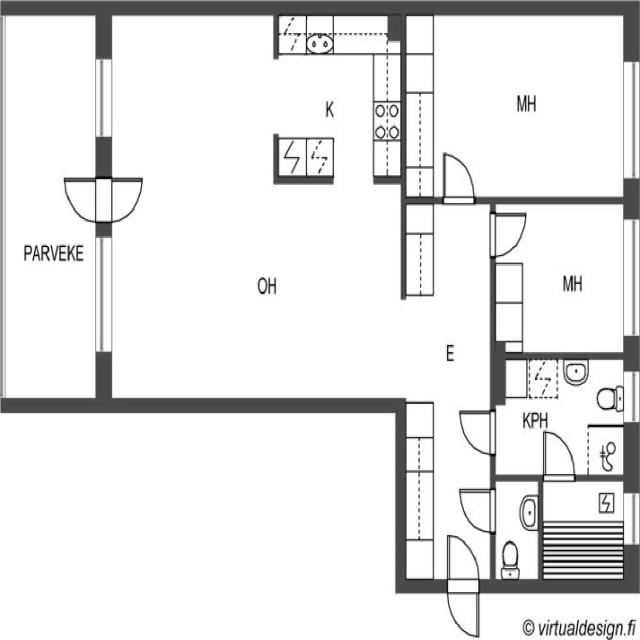door: (438, 528, 484, 640), (451, 398, 506, 462), (453, 479, 501, 539), (437, 147, 481, 206), (86, 176, 145, 220), (60, 174, 108, 224), (488, 205, 530, 258), (539, 429, 578, 486)
window: (92, 230, 116, 361), (620, 52, 640, 187), (620, 211, 640, 345), (92, 46, 116, 149), (624, 486, 640, 552)
zone: (108, 7, 275, 400), (402, 16, 634, 200), (0, 6, 100, 416), (402, 197, 495, 588), (274, 180, 402, 406), (491, 201, 633, 357), (274, 15, 404, 181), (493, 353, 633, 483), (539, 474, 628, 582), (492, 476, 540, 584)
